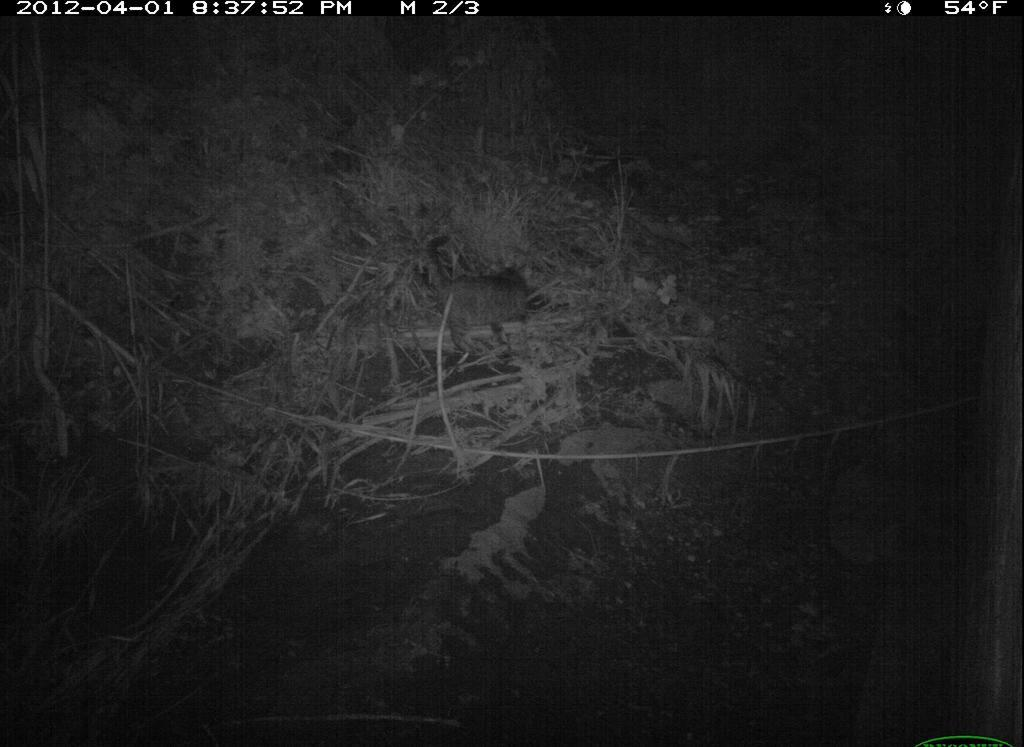cat: (418, 232, 562, 361)
